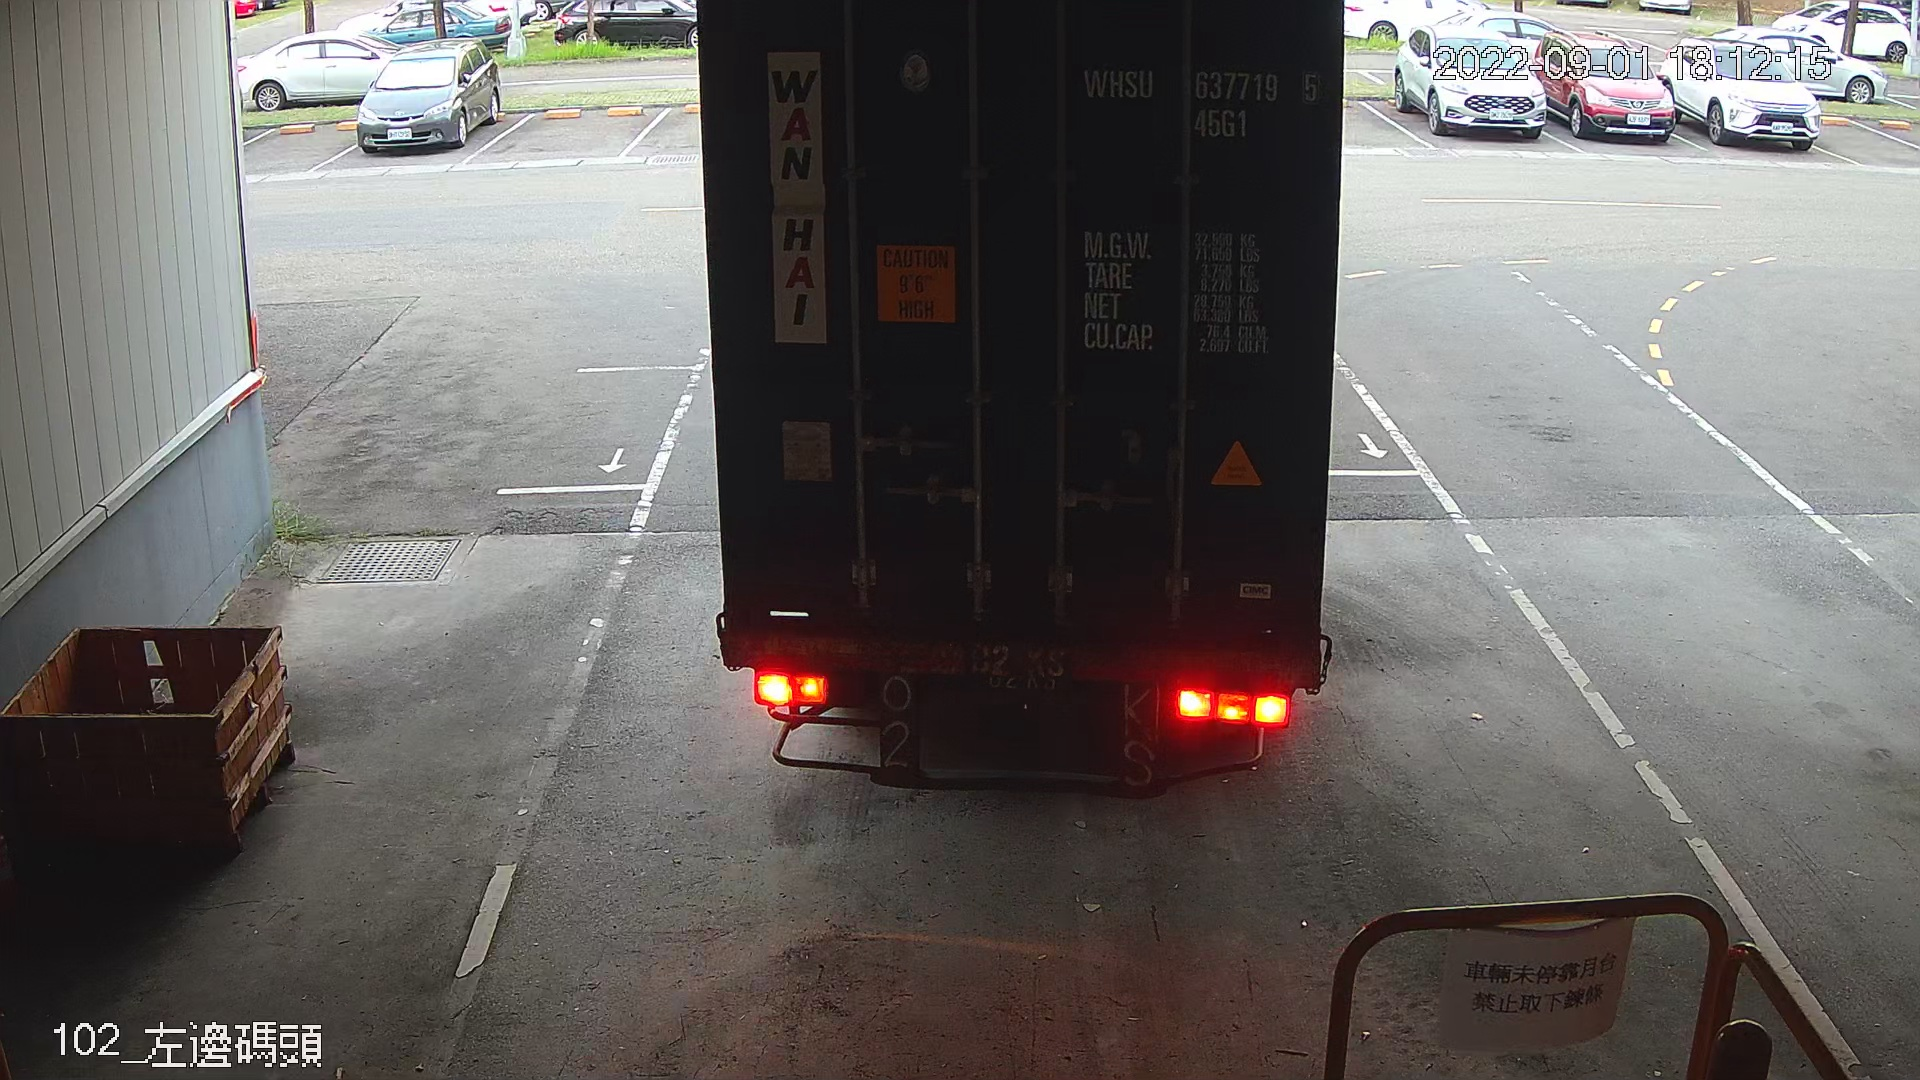container: (1073, 49, 1331, 148)
